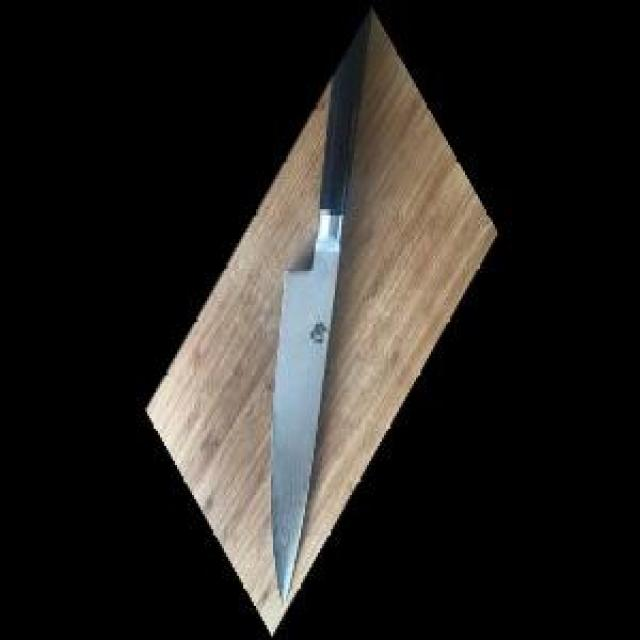knife: (273, 15, 376, 609)
